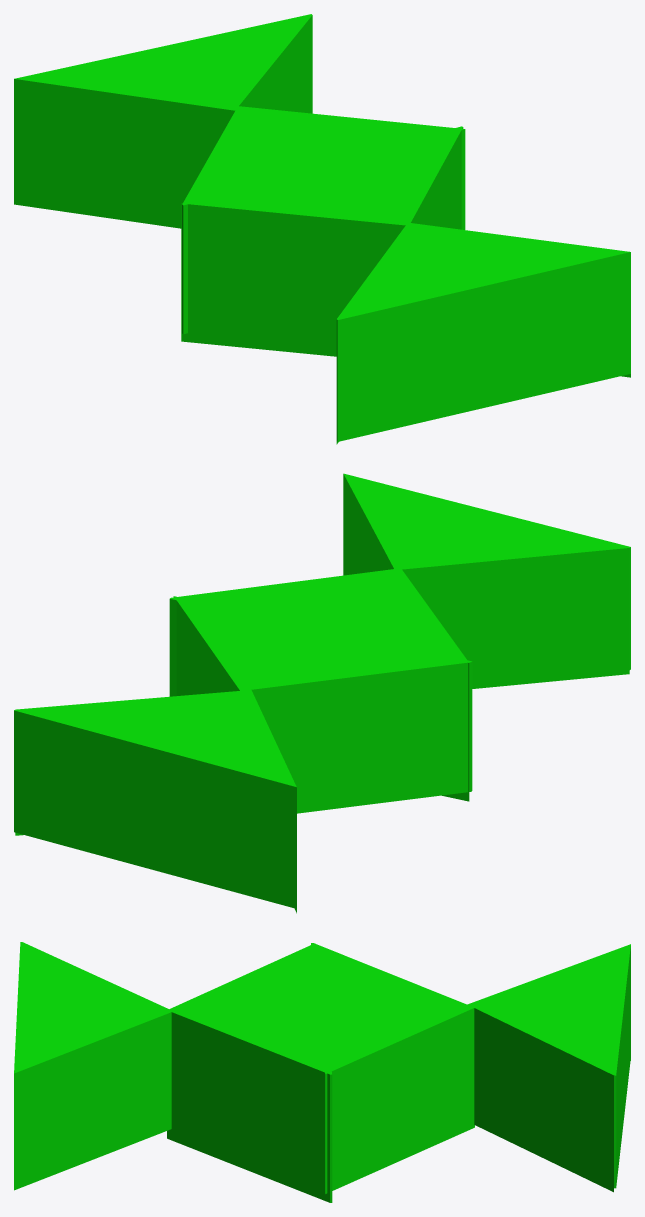
Rendered from Rune3NoStone.fbx.
The picture shows the model from 3 angles, top to bottom: view 1: azimuth 30°, elevation 25°; view 2: azimuth 150°, elevation 25°; view 3: azimuth 270°, elevation 25°; orthographic projection. The views are drawn at different scales.
Visible parts, largest first — view 1: Cube, Cube.003, Cube.001, Cube.002; view 2: Cube.003, Cube.002, Cube, Cube.001; view 3: Cube.001, Cube, Cube.003, Cube.002.
Boxes of the visible parts, left/top/right/bottom form: Cube: left=336, top=222, right=630, bottom=444; Cube.003: left=14, top=14, right=312, bottom=228; Cube.001: left=181, top=126, right=463, bottom=356; Cube.002: left=182, top=106, right=465, bottom=334; Cube.003: left=14, top=690, right=296, bottom=913; Cube.002: left=173, top=596, right=472, bottom=813; Cube: left=343, top=473, right=630, bottom=688; Cube.001: left=169, top=569, right=469, bottom=801; Cube.001: left=167, top=945, right=332, bottom=1202; Cube: left=14, top=942, right=171, bottom=1190; Cube.003: left=467, top=944, right=630, bottom=1192; Cube.002: left=311, top=943, right=474, bottom=1193.
Bounding box in the file's own units: 87.28 × 39.15 × 171.
